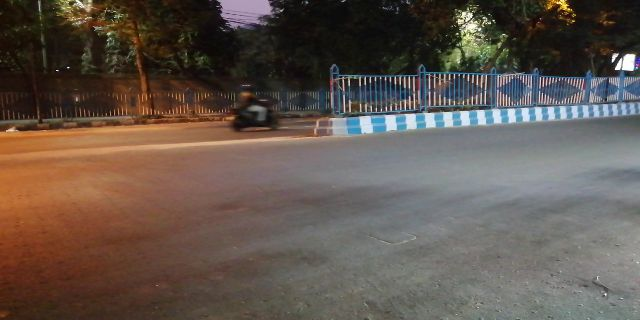Motorbike: (228, 82, 282, 136)
